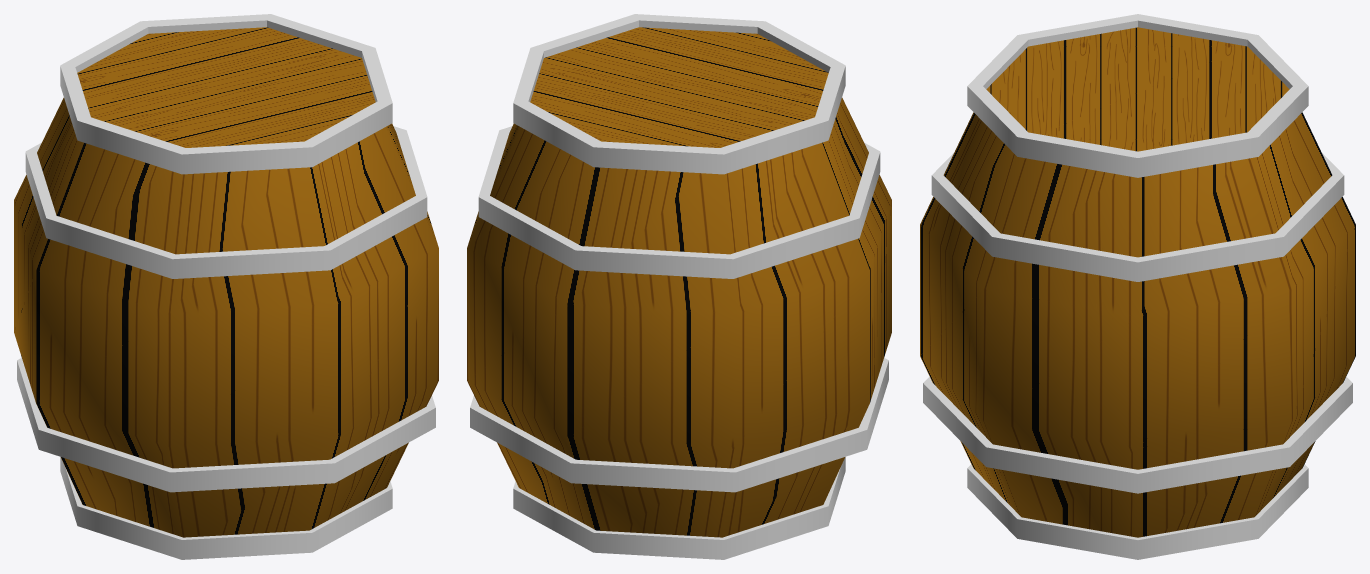
File: Barril.FBX
3 renders of one model, left to right at view 1: azimuth 30°, elevation 25°; view 2: azimuth 150°, elevation 25°; view 3: azimuth 270°, elevation 25°, orthographic.
Visible parts, largest first — view 1: Barril, AroBarril, AroBarril001, AroBarril003, AroBarril002; view 2: Barril, AroBarril, AroBarril001, AroBarril003, AroBarril002; view 3: Barril, AroBarril, AroBarril001, AroBarril003, AroBarril002.
Part boxes in pixels (x1,y1,x2,y2): Barril: [14, 27, 438, 537]; AroBarril: [60, 14, 392, 174]; AroBarril001: [25, 126, 427, 278]; AroBarril003: [17, 358, 435, 492]; AroBarril002: [60, 457, 392, 559]; Barril: [467, 27, 891, 537]; AroBarril: [513, 14, 845, 174]; AroBarril001: [478, 126, 880, 278]; AroBarril003: [470, 358, 888, 492]; AroBarril002: [513, 457, 845, 559]; Barril: [920, 27, 1355, 537]; AroBarril: [967, 14, 1308, 177]; AroBarril001: [931, 152, 1344, 281]; AroBarril003: [923, 376, 1352, 493]; AroBarril002: [967, 464, 1308, 559].
Size of the model in its own units: 100 by 102 by 100.
